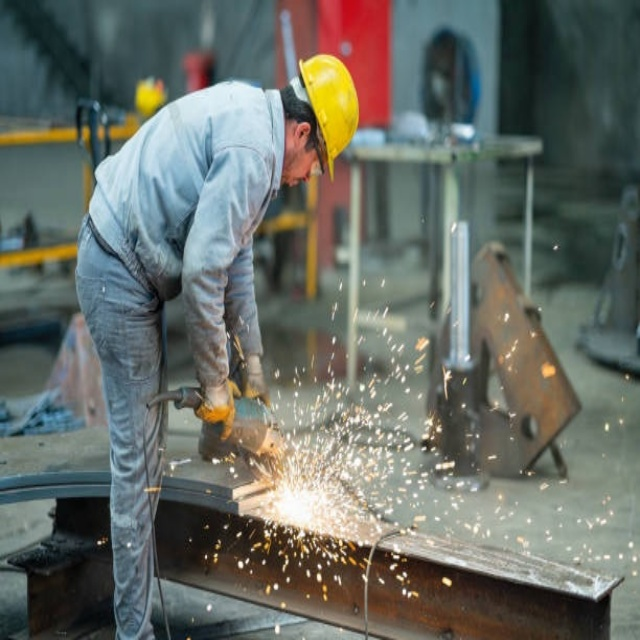Gafas: (311, 127, 325, 178)
Guantes: (196, 380, 239, 441), (242, 355, 272, 409)
Sin_mascara: (283, 166, 311, 191)
